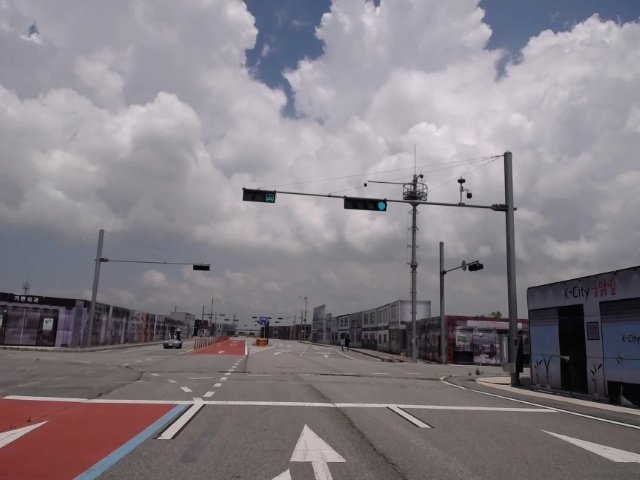straight_green_4: (343, 197, 388, 213)
